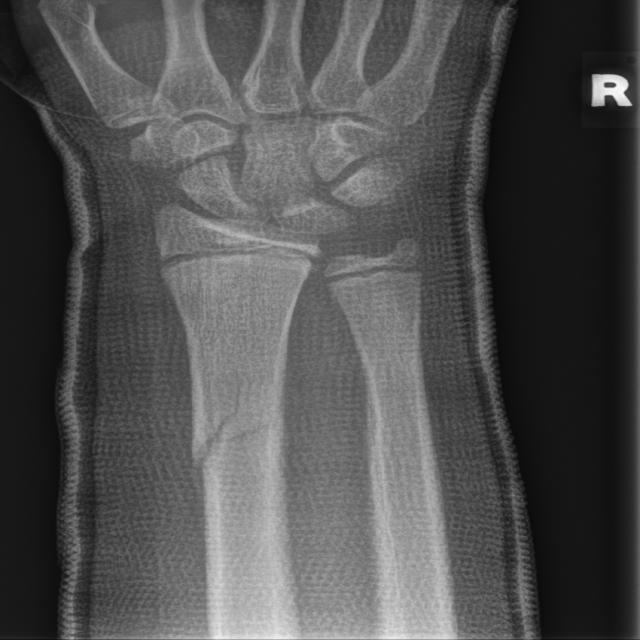radius fracture: (136, 346, 325, 582)
